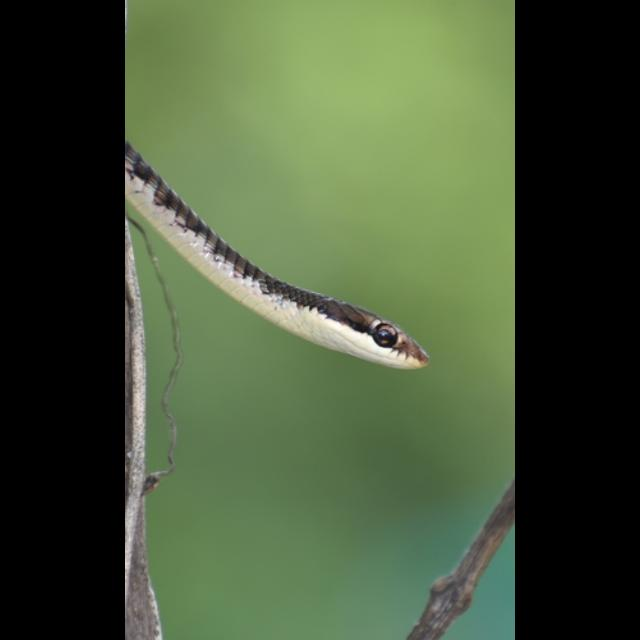snake: (128, 144, 430, 398)
